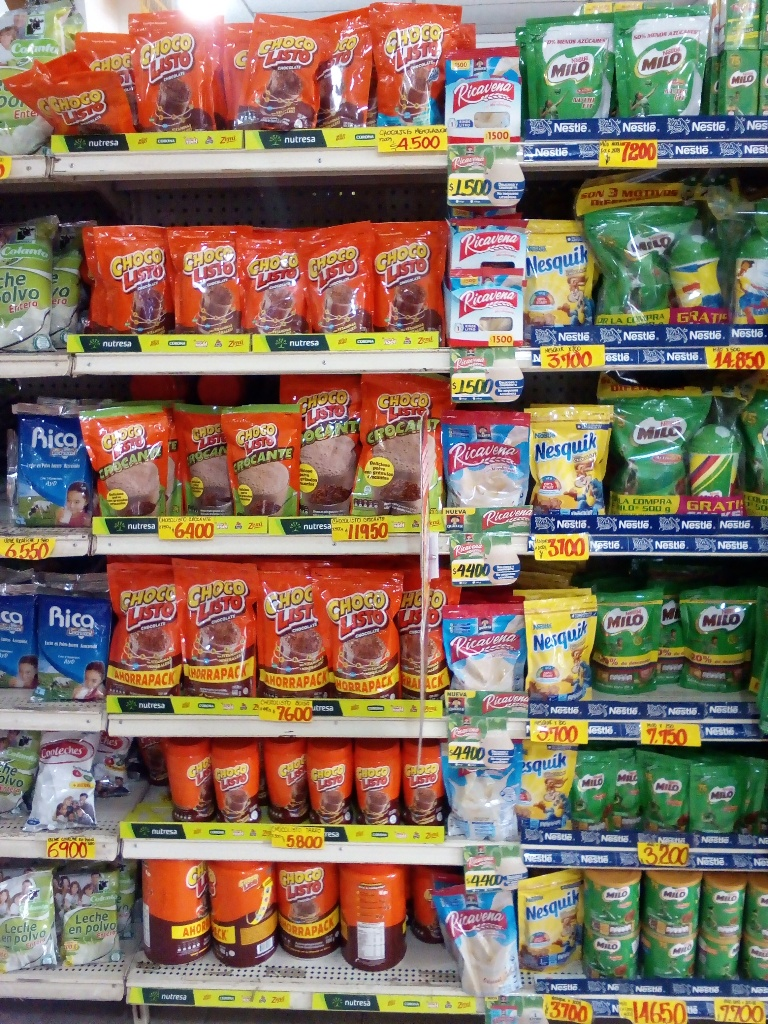COL0170102DYP25000: (75, 399, 171, 528)
COL0170102DYP50000: (277, 371, 366, 523)
COL0170103DYP20000: (78, 220, 169, 346)
COL0170103DYP44000: (96, 552, 184, 701)
COL0170103TRR00100: (133, 854, 210, 967)
COL0170103TRR30000: (161, 736, 215, 830)
COL0170104DYP20000: (365, 1, 461, 134)
COL0170203DYP10000: (571, 753, 612, 834)
COL0170203DYP25000: (675, 577, 759, 707)
COL0170203DYP50000: (576, 189, 689, 333)
COL0170203LAT20000: (699, 873, 749, 941)
COL0170203LAT40000: (575, 858, 644, 923)
COL0170205DYP20000: (525, 11, 612, 117)
COL0170303DYP20000: (512, 218, 599, 345)
